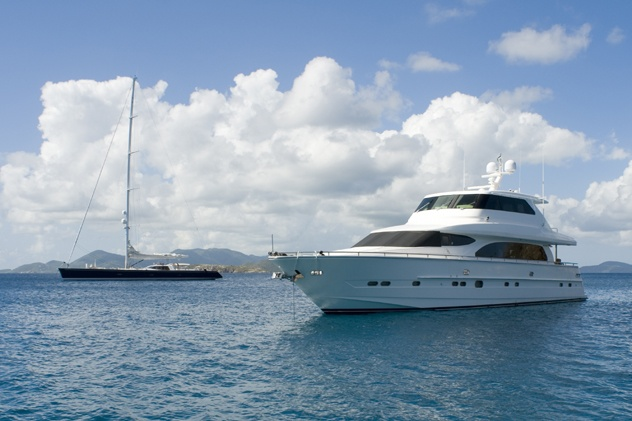yacht: (255, 158, 591, 322), (50, 250, 224, 283)
